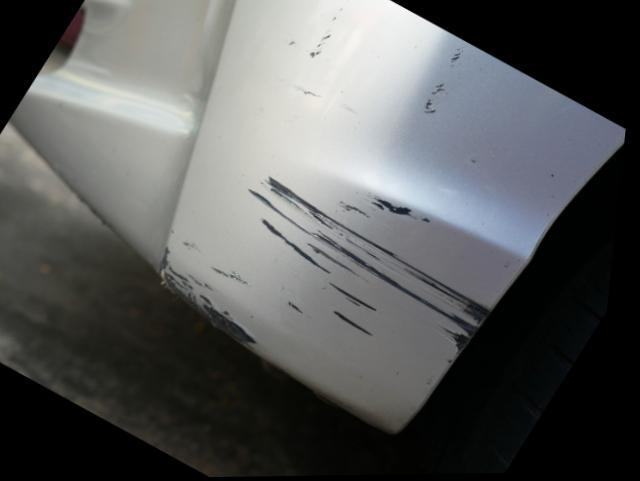scratch: (168, 171, 498, 367), (277, 0, 350, 105), (424, 41, 476, 116)
